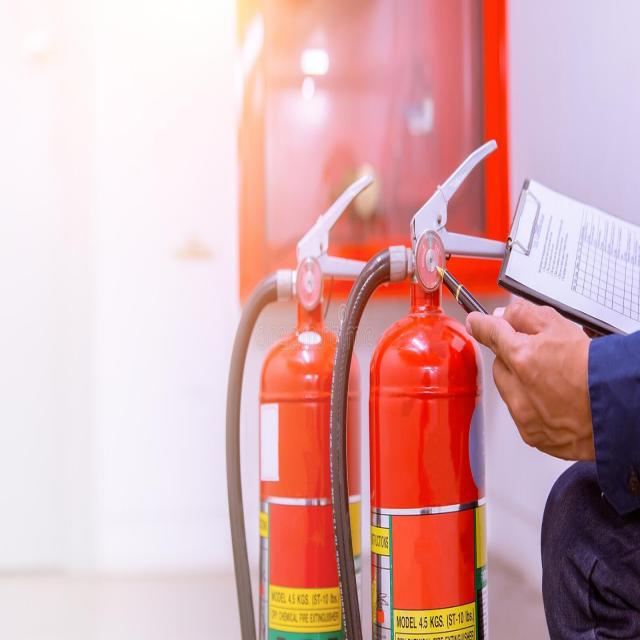fire_extinguisher: (325, 135, 525, 639), (220, 164, 386, 639)
